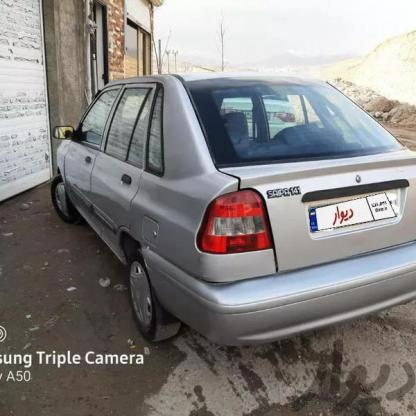Car: (43, 70, 416, 357), (195, 76, 306, 146)
